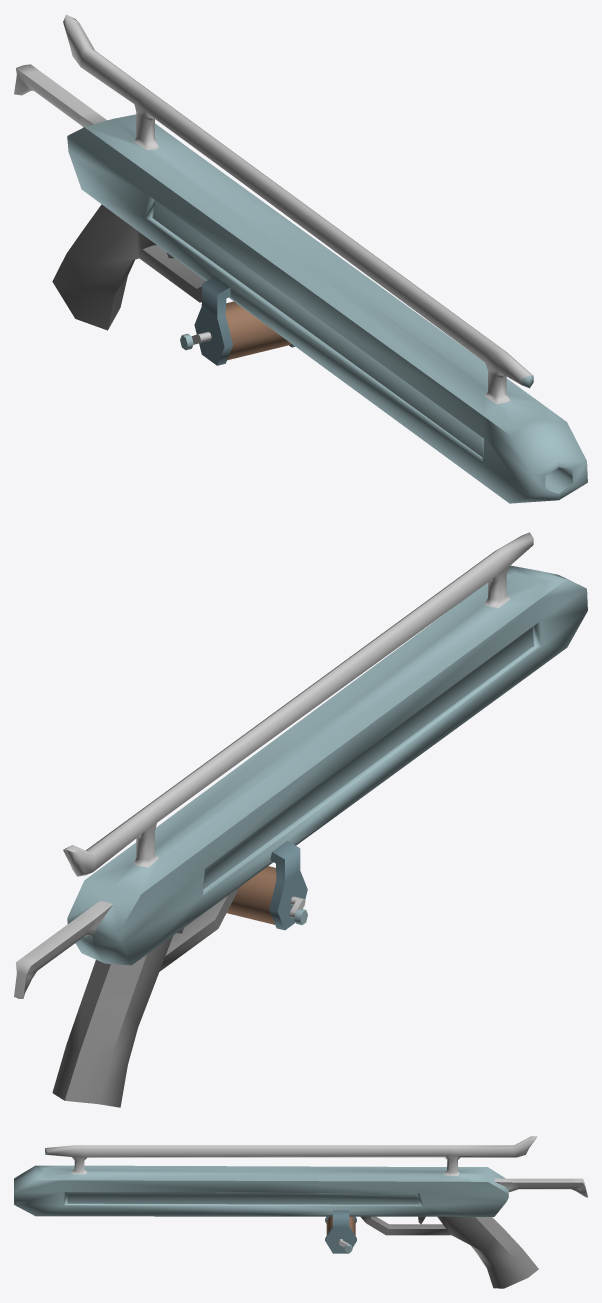
The model's file is Hook Harpoon (FBX).fbx.
The picture shows the model from 3 angles, top to bottom: view 1: azimuth 30°, elevation 25°; view 2: azimuth 150°, elevation 25°; view 3: azimuth 270°, elevation 25°; orthographic projection. The views are drawn at different scales.
Parts seen in each view (by area): view 1: Hook Upgrade, Gun Base; view 2: Hook Upgrade, Gun Base; view 3: Hook Upgrade, Gun Base.
Boxes of the visible parts, left/top/right/bottom form: Hook Upgrade: left=14, top=14, right=587, bottom=503; Gun Base: left=52, top=204, right=205, bottom=330; Hook Upgrade: left=14, top=532, right=587, bottom=998; Gun Base: left=52, top=888, right=238, bottom=1107; Hook Upgrade: left=14, top=1136, right=587, bottom=1253; Gun Base: left=360, top=1216, right=538, bottom=1288.
Bounding box in the file's own units: 15.14 × 34.36 × 118.
